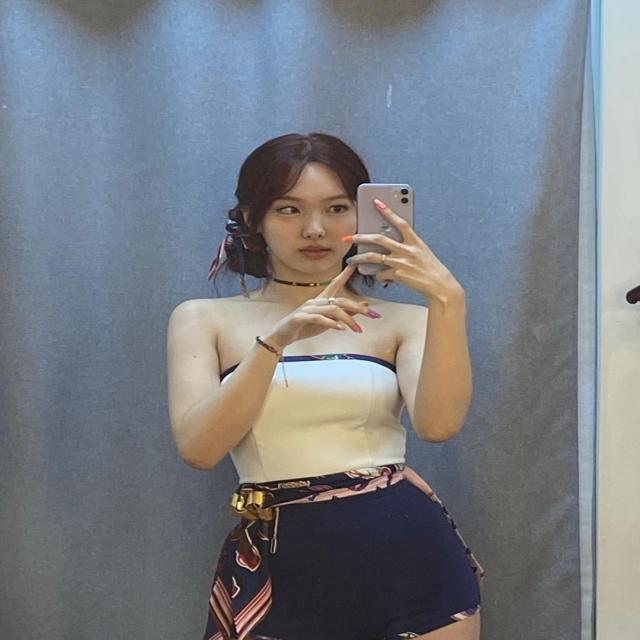phone: (358, 184, 413, 276)
